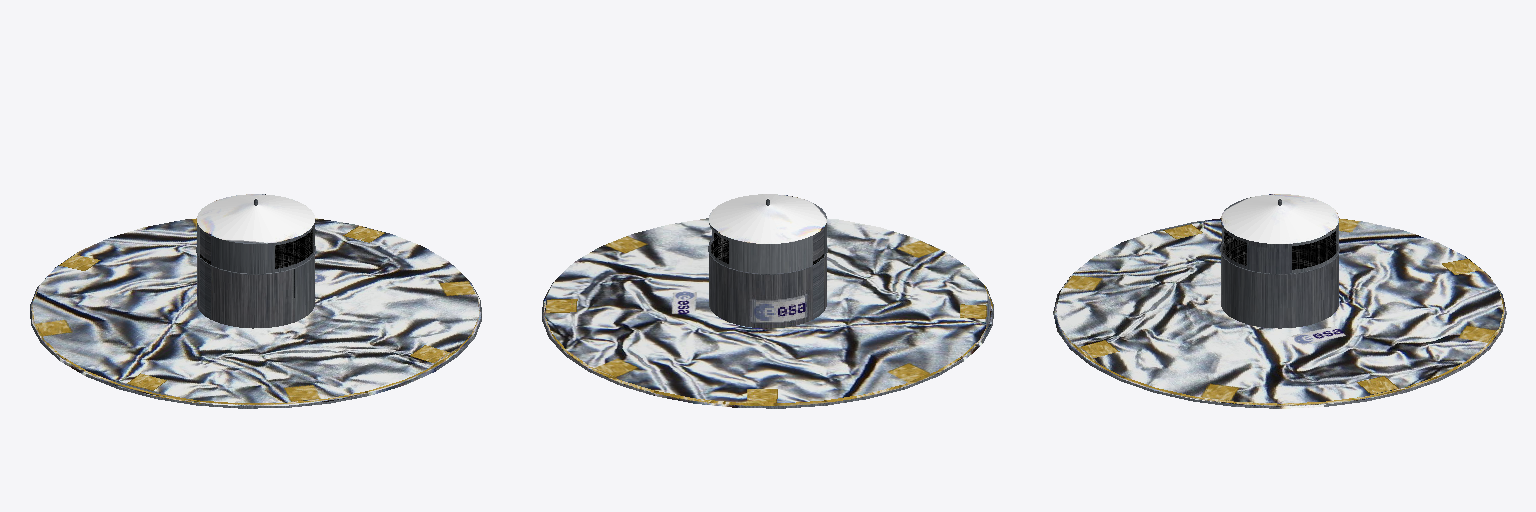
The picture shows the model from 3 angles: view 1: azimuth 30°, elevation 25°; view 2: azimuth 150°, elevation 25°; view 3: azimuth 270°, elevation 25°; orthographic projection.
Visible parts, largest first — view 1: Cylinder; view 2: Cylinder; view 3: Cylinder.
Boxes of the visible parts, box(x1,y1,x2,y2) form: Cylinder: box(30, 194, 481, 408); Cylinder: box(542, 194, 993, 408); Cylinder: box(1053, 194, 1506, 408).
Bounding box in the file's own units: 7.65 × 2.14 × 7.65.
1 materials, 1 textured.